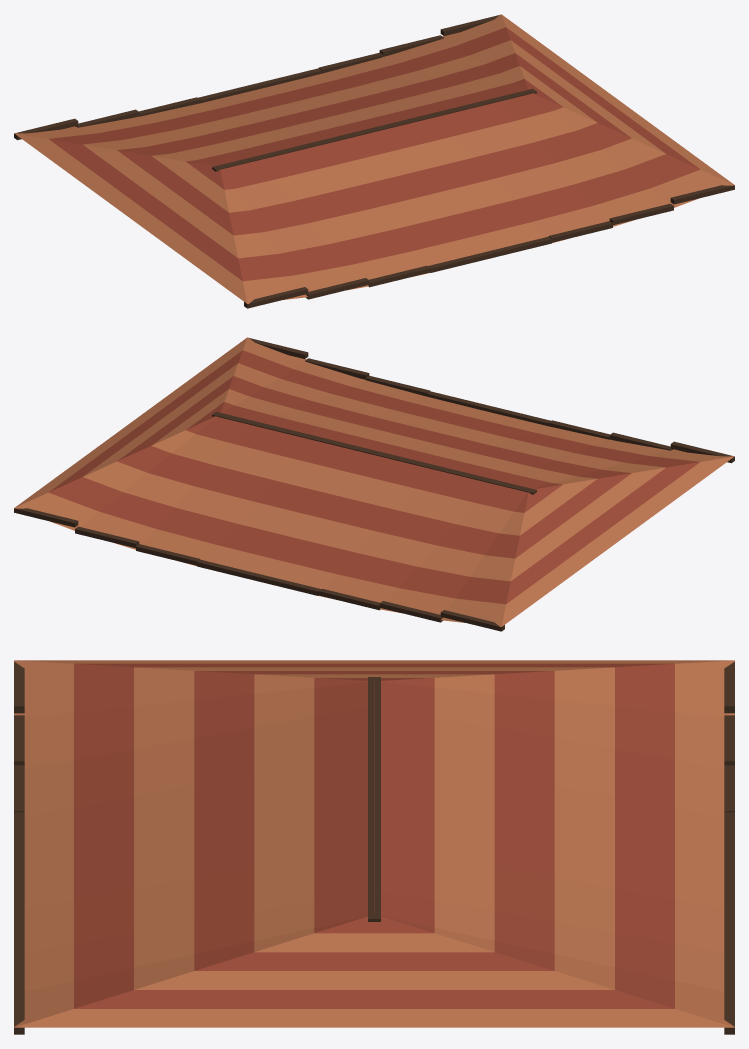
File: env_house_workshop_roof.glb
The picture shows the model from 3 angles, top to bottom: view 1: azimuth 30°, elevation 25°; view 2: azimuth 150°, elevation 25°; view 3: azimuth 270°, elevation 25°; orthographic projection. The views are drawn at different scales.
Parts seen in each view (by area): view 1: ENV_House_Workshop_Roof; view 2: ENV_House_Workshop_Roof; view 3: ENV_House_Workshop_Roof.
Part boxes in pixels (left/top/right/bottom): ENV_House_Workshop_Roof: left=14, top=14, right=734, bottom=308; ENV_House_Workshop_Roof: left=14, top=337, right=734, bottom=631; ENV_House_Workshop_Roof: left=14, top=660, right=734, bottom=1034.
Bounding box in the file's own units: 8.2 × 0.7 × 6.8.
